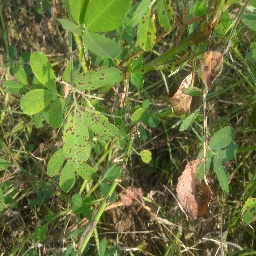GroundNut_Leaf: (63, 111, 90, 169), (84, 1, 130, 32), (92, 111, 126, 150), (73, 66, 123, 90), (84, 33, 123, 61), (29, 50, 56, 88), (137, 11, 157, 52), (19, 88, 51, 113), (207, 125, 236, 151), (71, 193, 95, 220), (130, 57, 145, 88), (241, 197, 256, 227)
